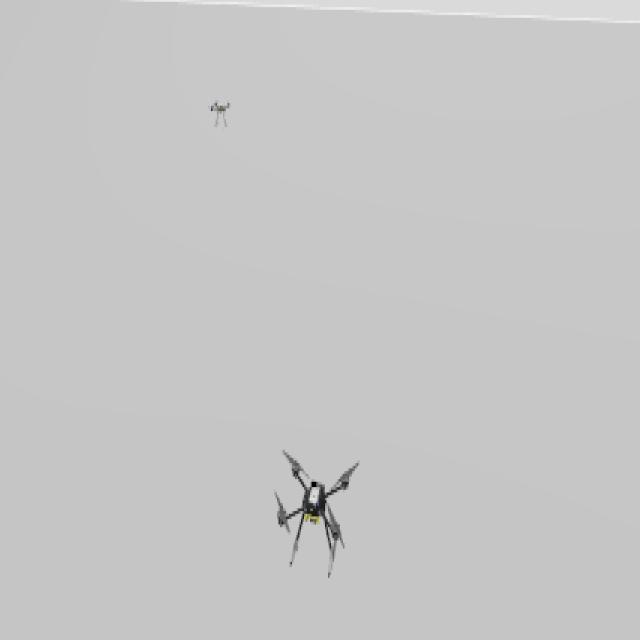drone: (269, 433, 364, 585), (208, 94, 233, 129)
